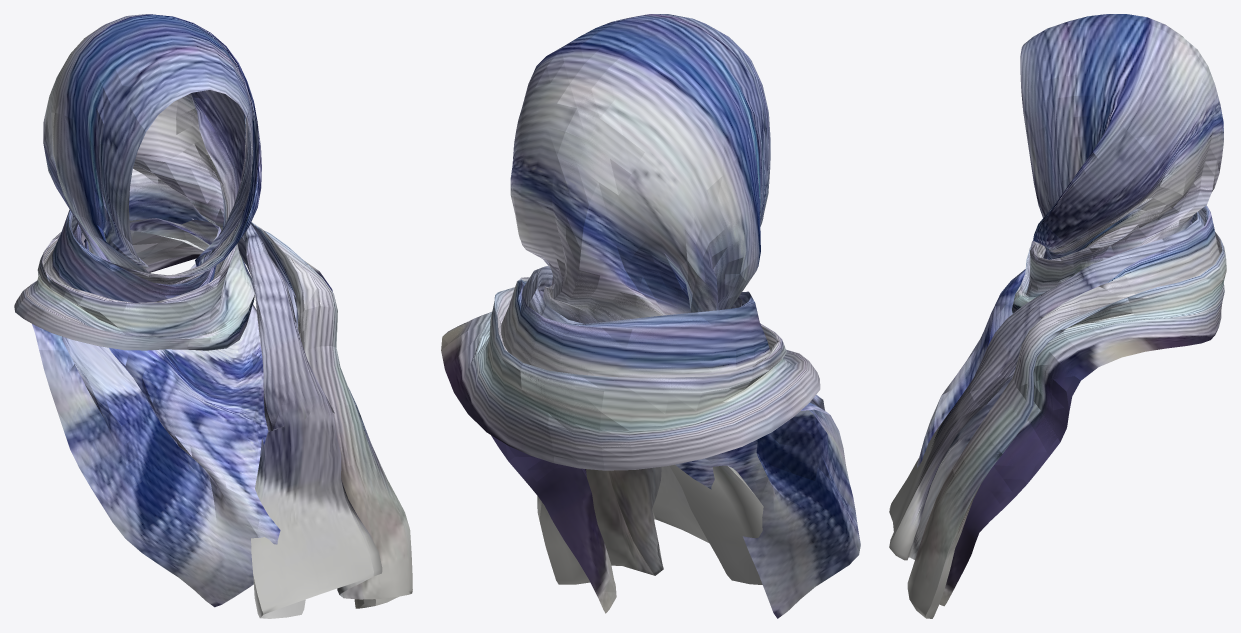
File: shawl5.glb
3 views of the same model, side by side, from view 1: azimuth 30°, elevation 25°; view 2: azimuth 150°, elevation 25°; view 3: azimuth 270°, elevation 25° (orthographic). The views are drawn at different scales.
Visible parts, largest first — view 1: Object_2; view 2: Object_2; view 3: Object_2.
Part boxes in pixels (bbox=[...]): Object_2: bbox=[14, 14, 412, 618]; Object_2: bbox=[441, 14, 860, 618]; Object_2: bbox=[889, 14, 1226, 618].
Size of the model in its own units: 3.49 by 6.07 by 3.51.
Materials: 1 (1 with a texture image).
